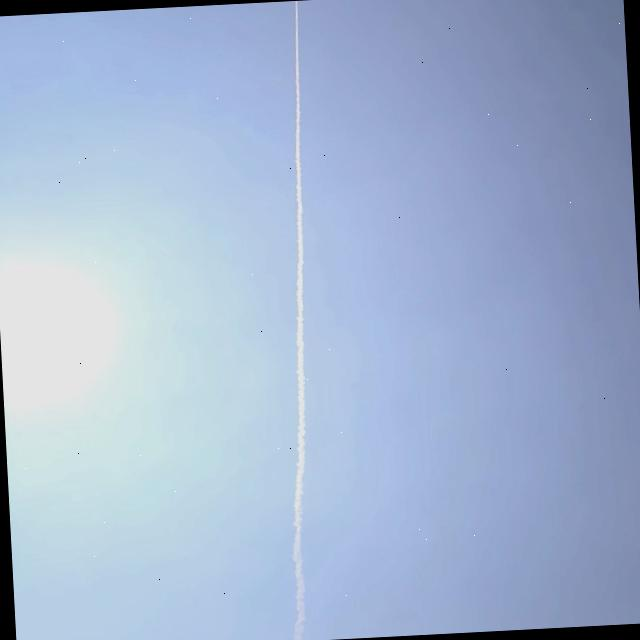smoke_trail_no_rocket: (292, 92, 306, 640)
